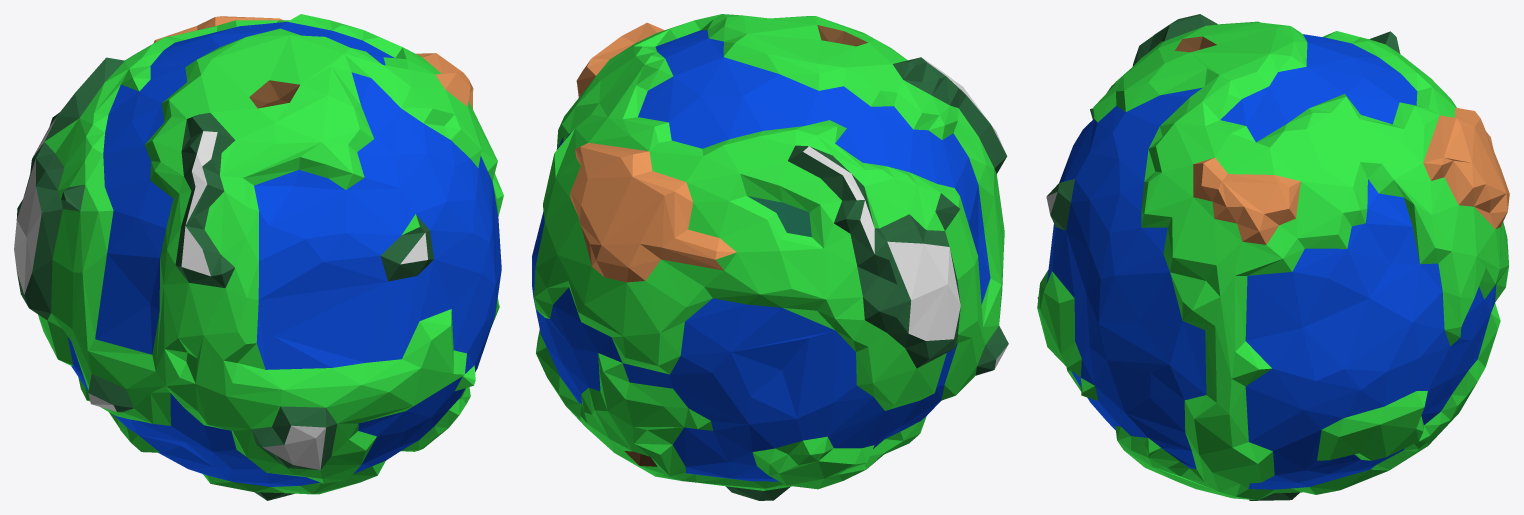
File: Planet.fbx
3 views of the same model, side by side, from view 1: azimuth 30°, elevation 25°; view 2: azimuth 150°, elevation 25°; view 3: azimuth 270°, elevation 25° (orthographic).
Parts seen in each view (by area): view 1: Box001; view 2: Box001; view 3: Box001.
Part boxes in pixels (x1,y1,x2,y2): Box001: (14,14,503,500); Box001: (532,14,1008,500); Box001: (1037,14,1509,500).
Bounding box in the file's own units: 513 × 531 × 508.
